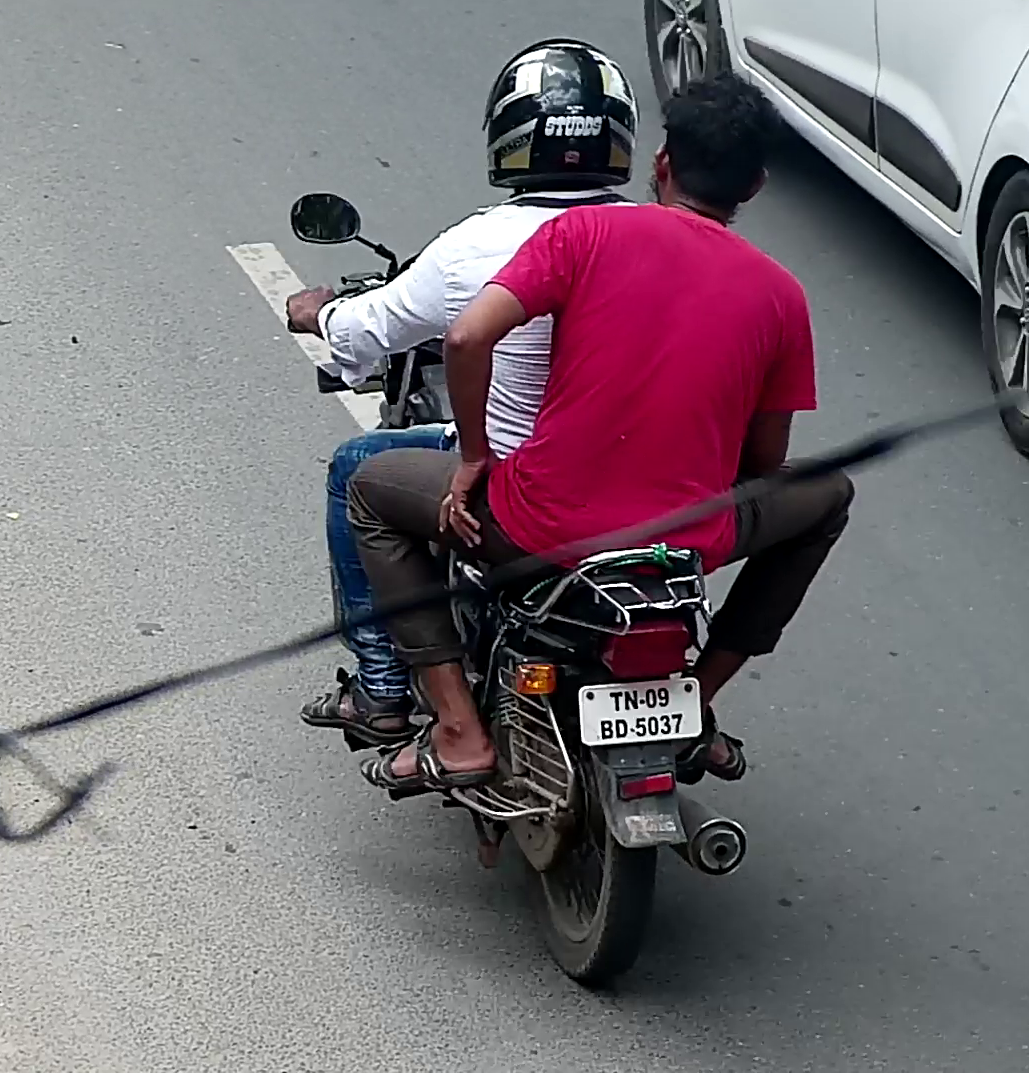-: (639, 699, 645, 705), (629, 728, 635, 732)
0: (647, 716, 659, 736), (646, 688, 657, 708)
3: (659, 715, 671, 735)
5: (636, 717, 647, 737)
7: (672, 713, 683, 734)
9: (657, 687, 669, 707)
B: (600, 720, 613, 740)
D: (614, 719, 628, 738)
N: (624, 689, 638, 710)
P16: (578, 677, 703, 747)
T: (609, 691, 623, 712)
